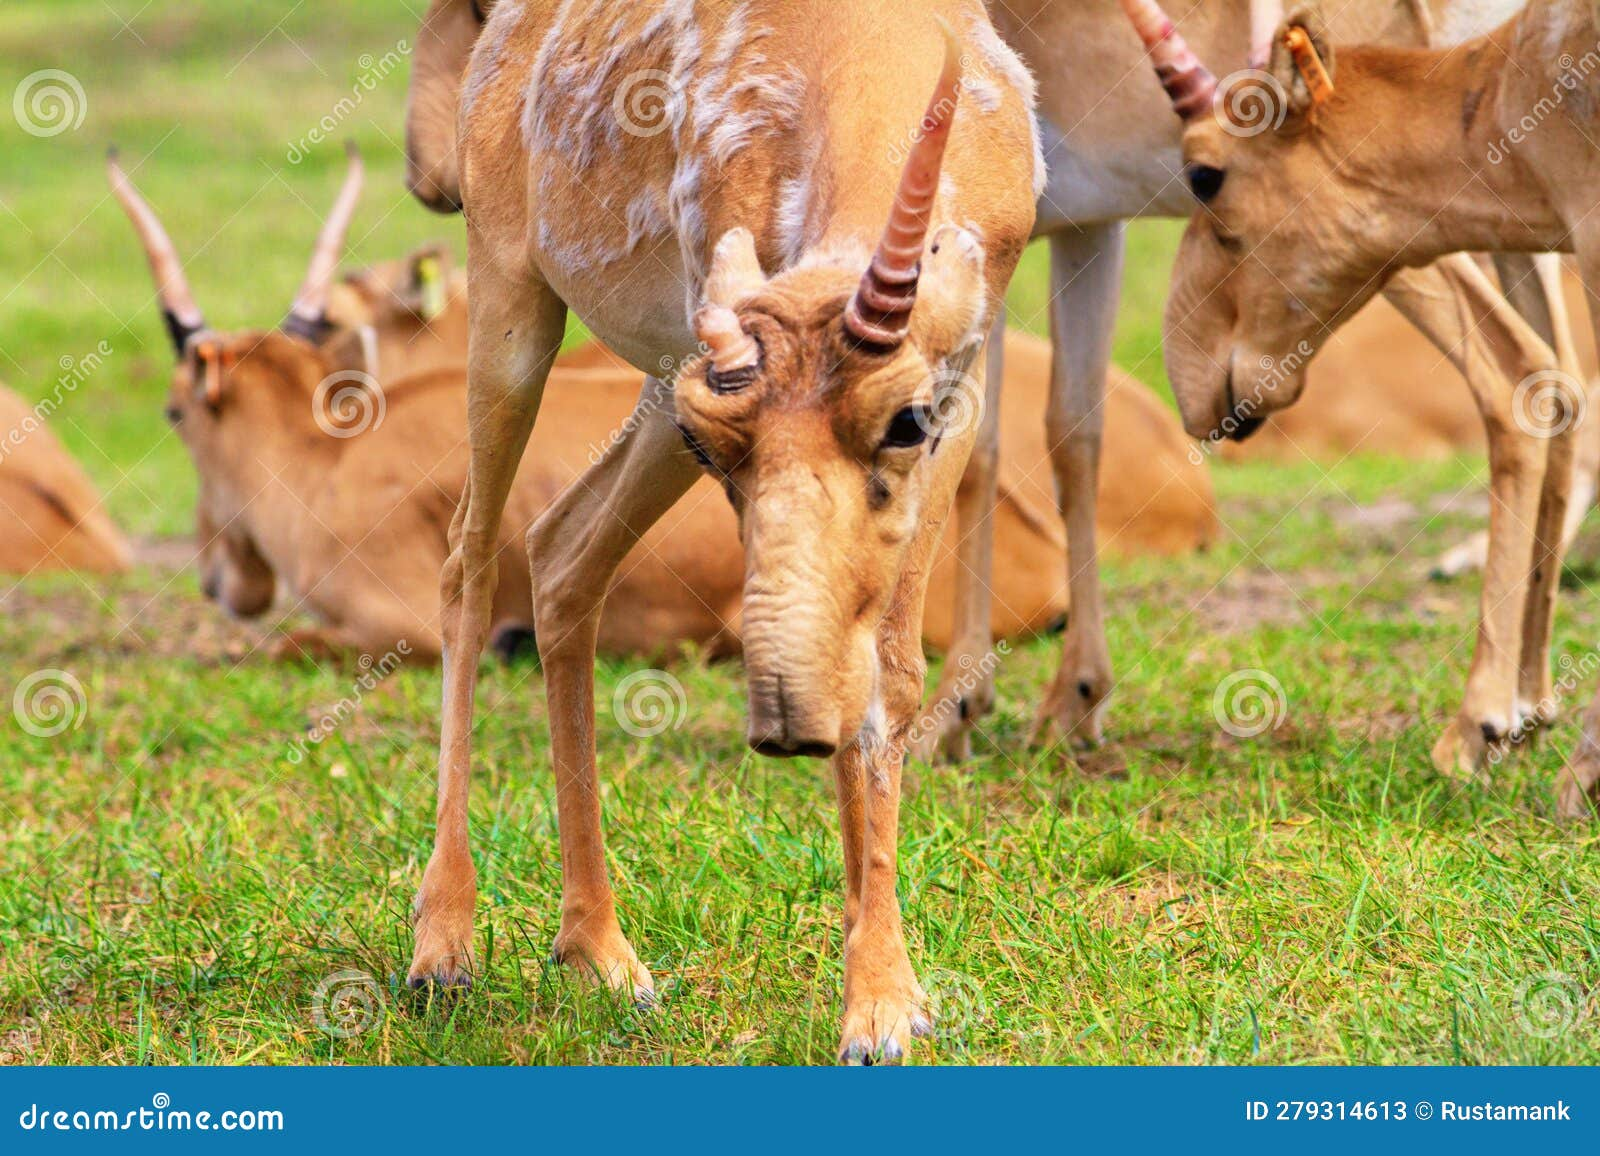saiga: (420, 1, 1070, 1073), (1117, 2, 1599, 829)
